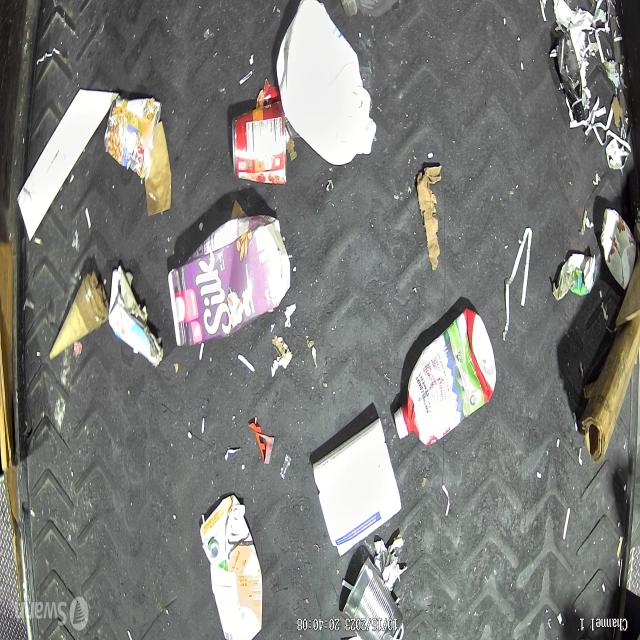can: (341, 556, 404, 640), (231, 100, 288, 186), (104, 96, 162, 179), (600, 208, 637, 290)
milk_jug: (276, 0, 378, 166)
non_white_jug: (168, 211, 290, 346), (394, 308, 496, 446), (200, 492, 262, 640)
